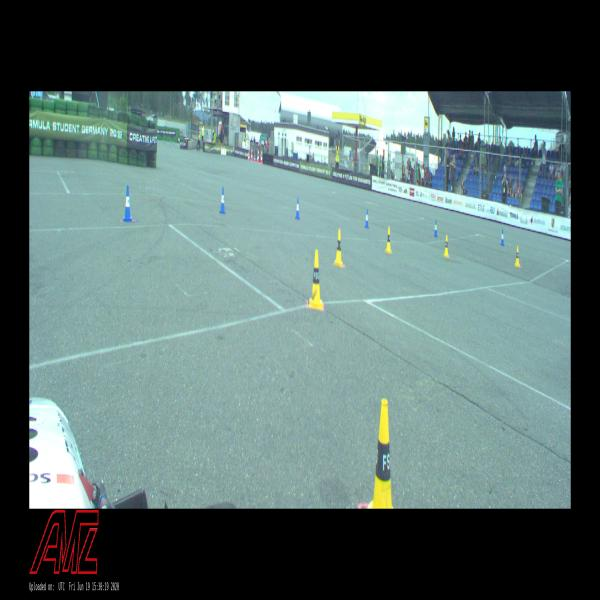blue_cone: (124, 186, 132, 222), (219, 187, 226, 214), (295, 197, 300, 219), (364, 210, 368, 228), (500, 229, 504, 245), (434, 220, 437, 236)
yellow_cone: (367, 398, 398, 508), (309, 250, 322, 308), (334, 229, 343, 266), (385, 226, 392, 252), (443, 235, 449, 257), (514, 246, 520, 267)
